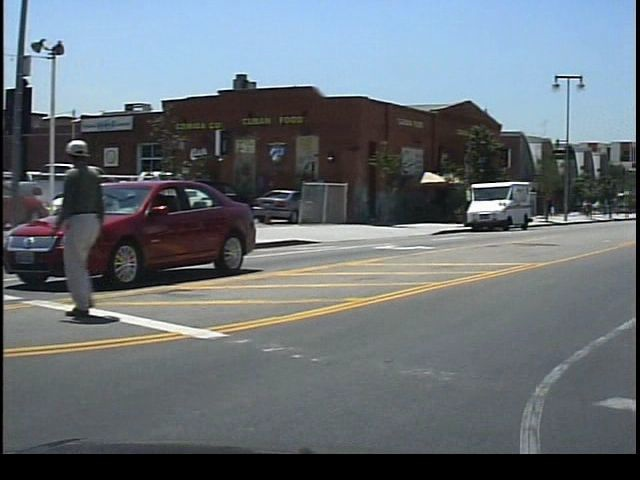person: (59, 138, 135, 322)
